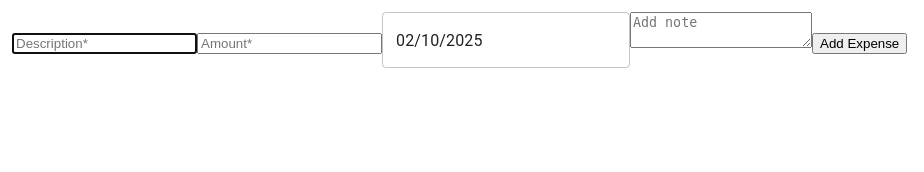
Test: should render notes properly with error
Type "Testing_note" into the text box with placeholder "Add note". click: (721,30)
box: 630,12 -> 812,48
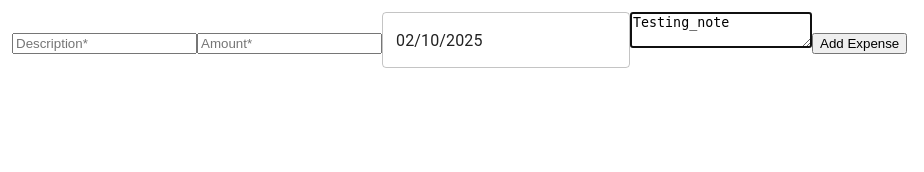
Click the button "Add Expense". click: (860,44)
box: 812,33 -> 907,54
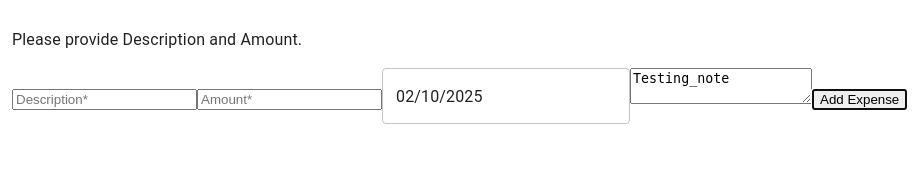
Check: the text "Please provide Description and Amount." is shown, box 12,30 -> 302,49
